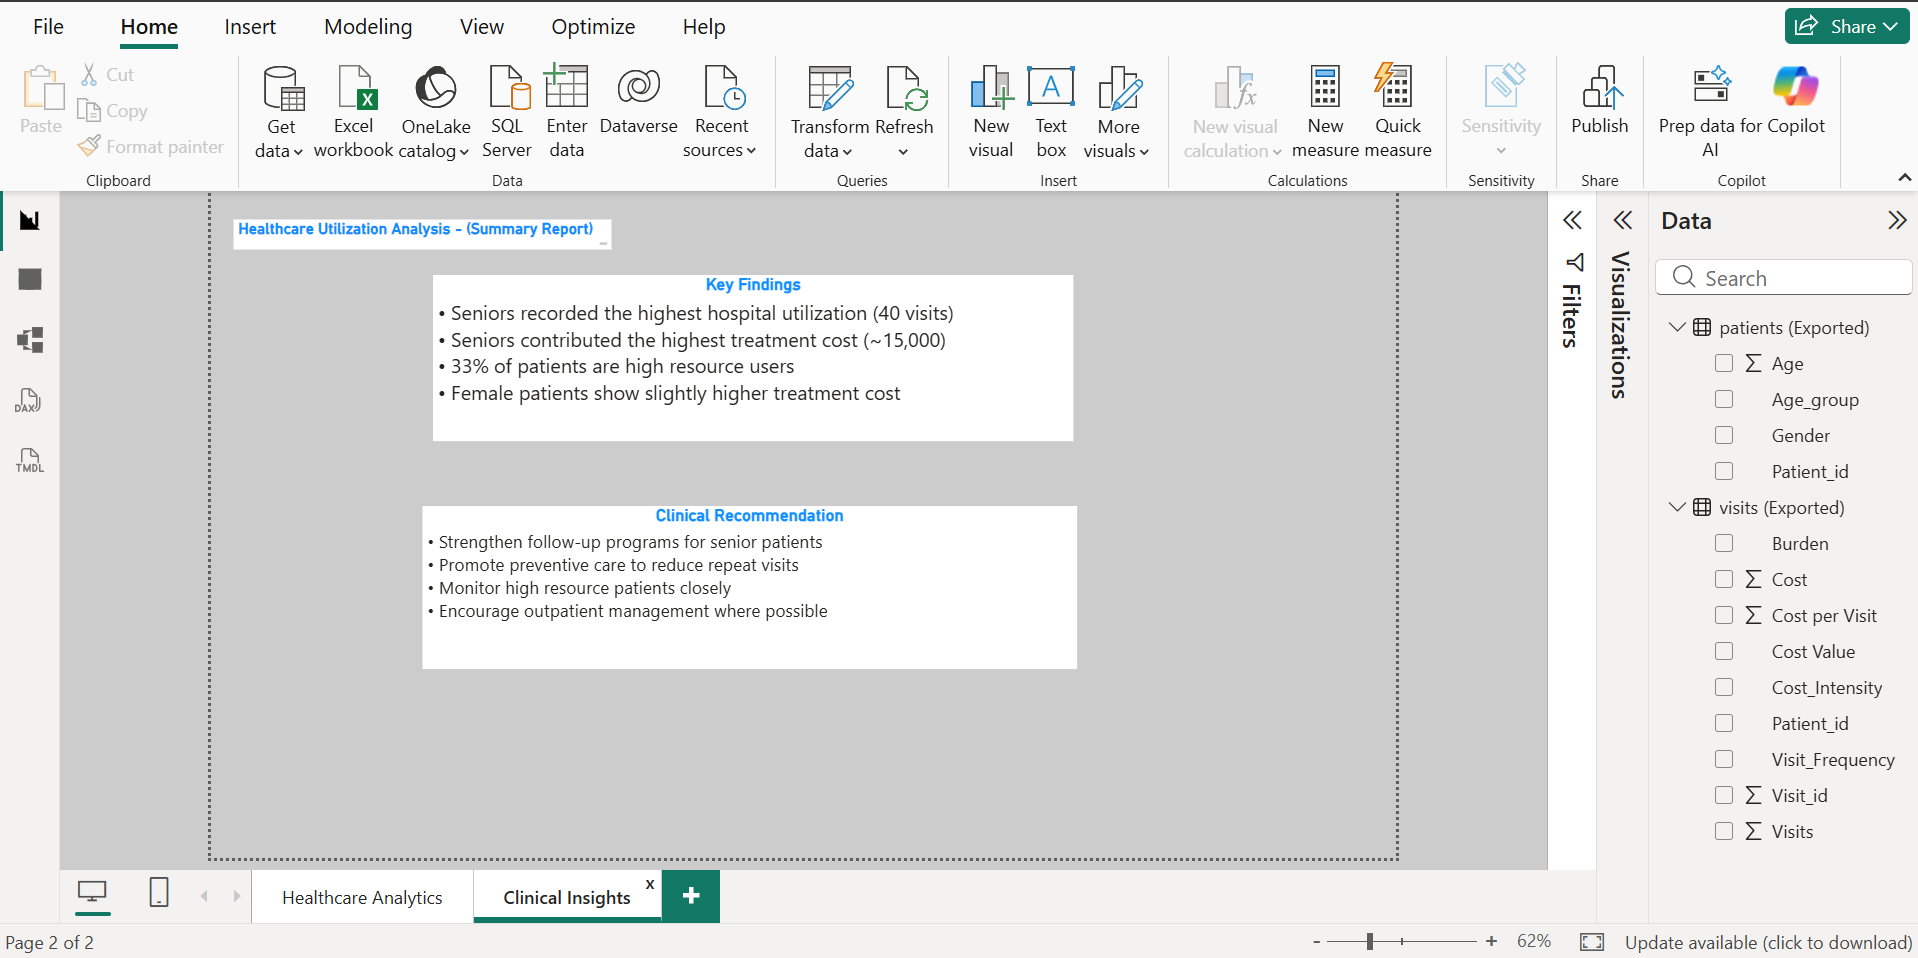

What the dashboard file says about the page in this screenshot:
{"tool":"powerbi","page":{"name":"Clinical Insights","canvas":[1280,720],"ordinal":1},"visuals":[{"type":"textbox","title":"Key Findings","box":[240,90.7,691.7,179.5],"z":0},{"type":"textbox","title":"Clinical Recommendation","box":[228.7,340.2,706.8,175.7],"z":1000},{"type":"textbox","title":"Healthcare Utilization Analysis - (Summary Report)","box":[24.6,30.2,408.2,32.1],"z":2000}]}

Visuals, with their boxes on the page's 1280x720 design canvas (x1, y1, x2, y2). These are canvas units, not pixel positions in the 1918x958 screenshot, which may show the page scaled, cropped or inside an application window:
"Key Findings" textbox: 240/91/932/270
"Clinical Recommendation" textbox: 229/340/936/516
"Healthcare Utilization Analysis - (Summary Report)" textbox: 25/30/433/62
